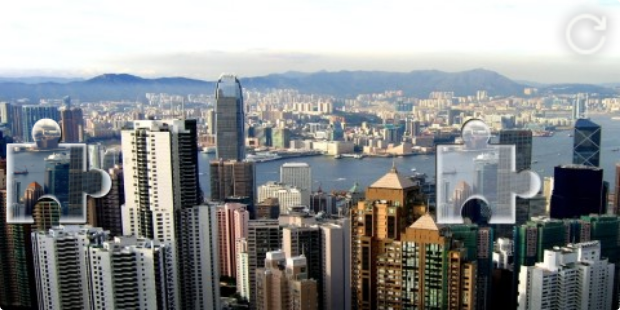target: (437, 118, 542, 223)
